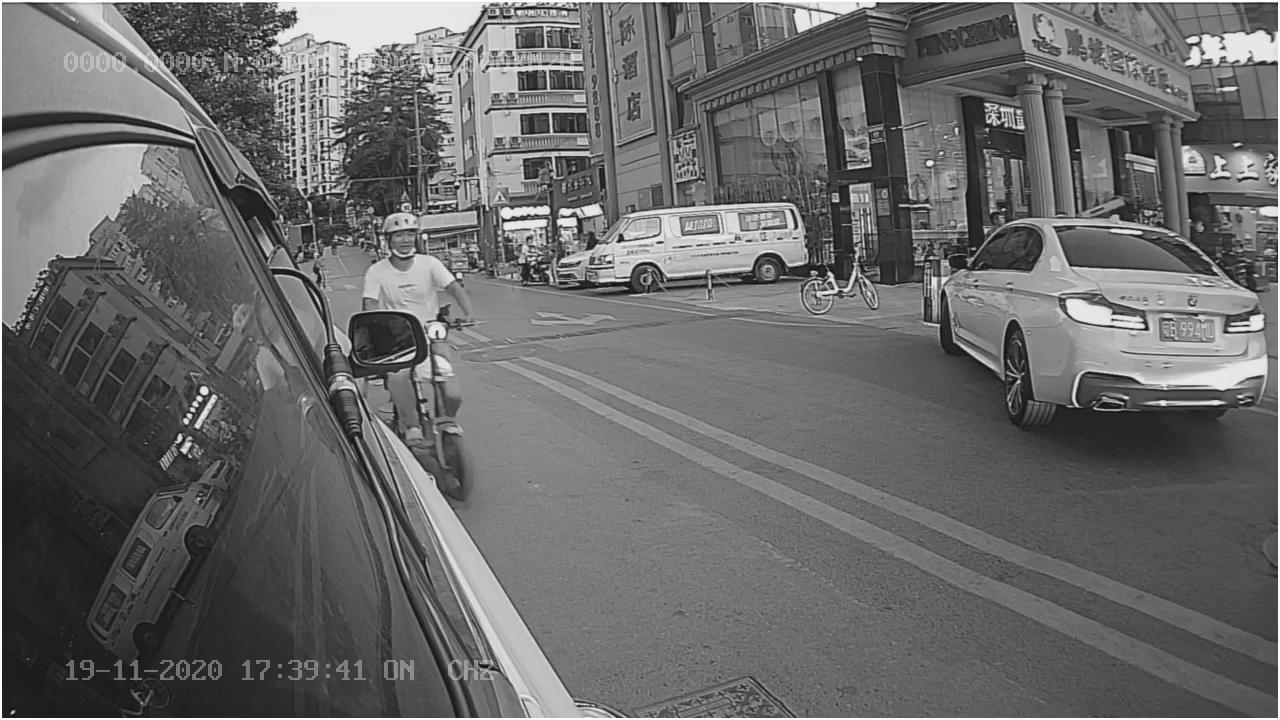person: (364, 213, 467, 315)
